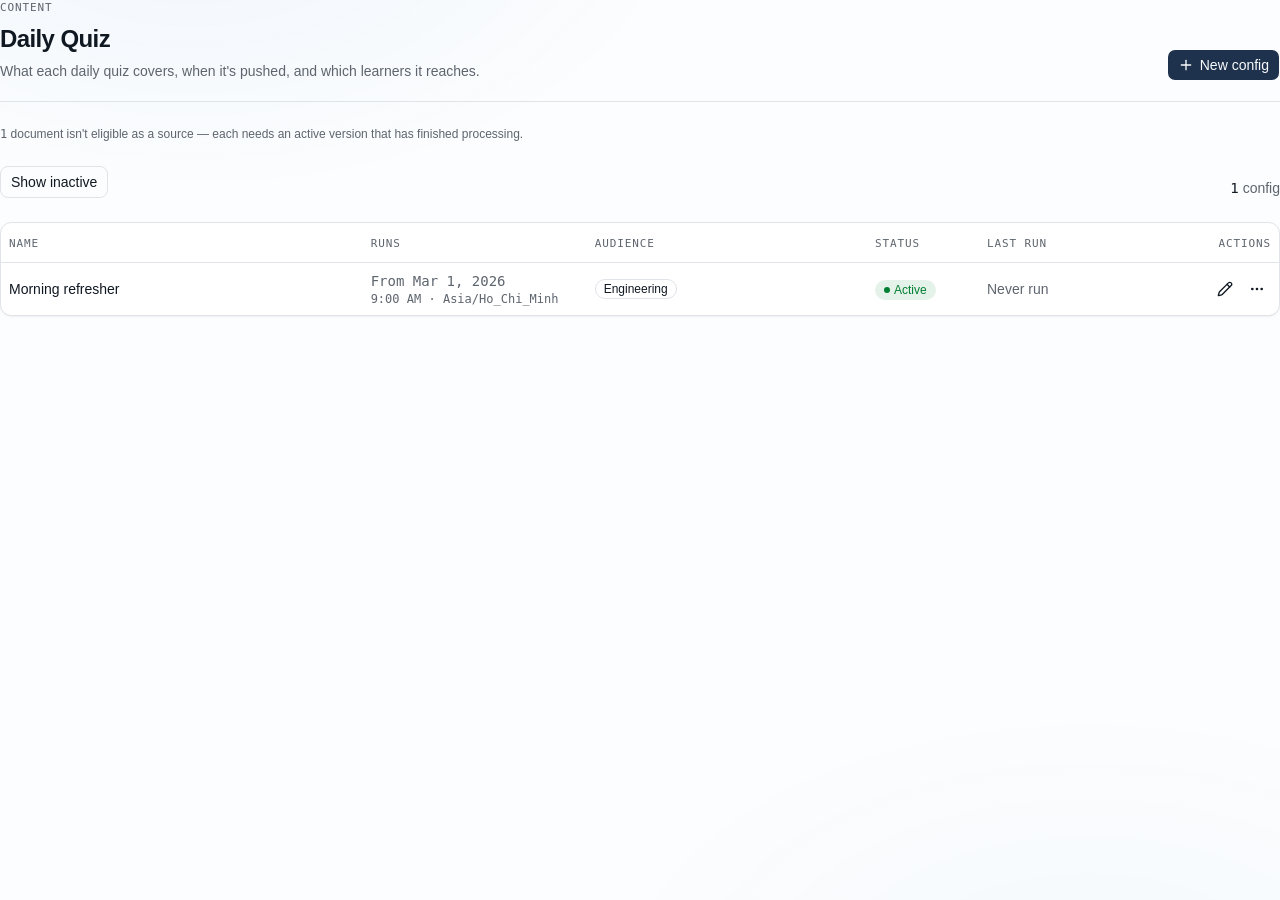
Test: DailyQuizConfigsPage › creates a config end to end with the expected payload
Check: the text "Morning refresher" is shown, box x1=9 y1=281 x2=120 y2=297
Click the button "New config".
click(1223, 64)  # box x1=1167 y1=48 x2=1279 y2=80
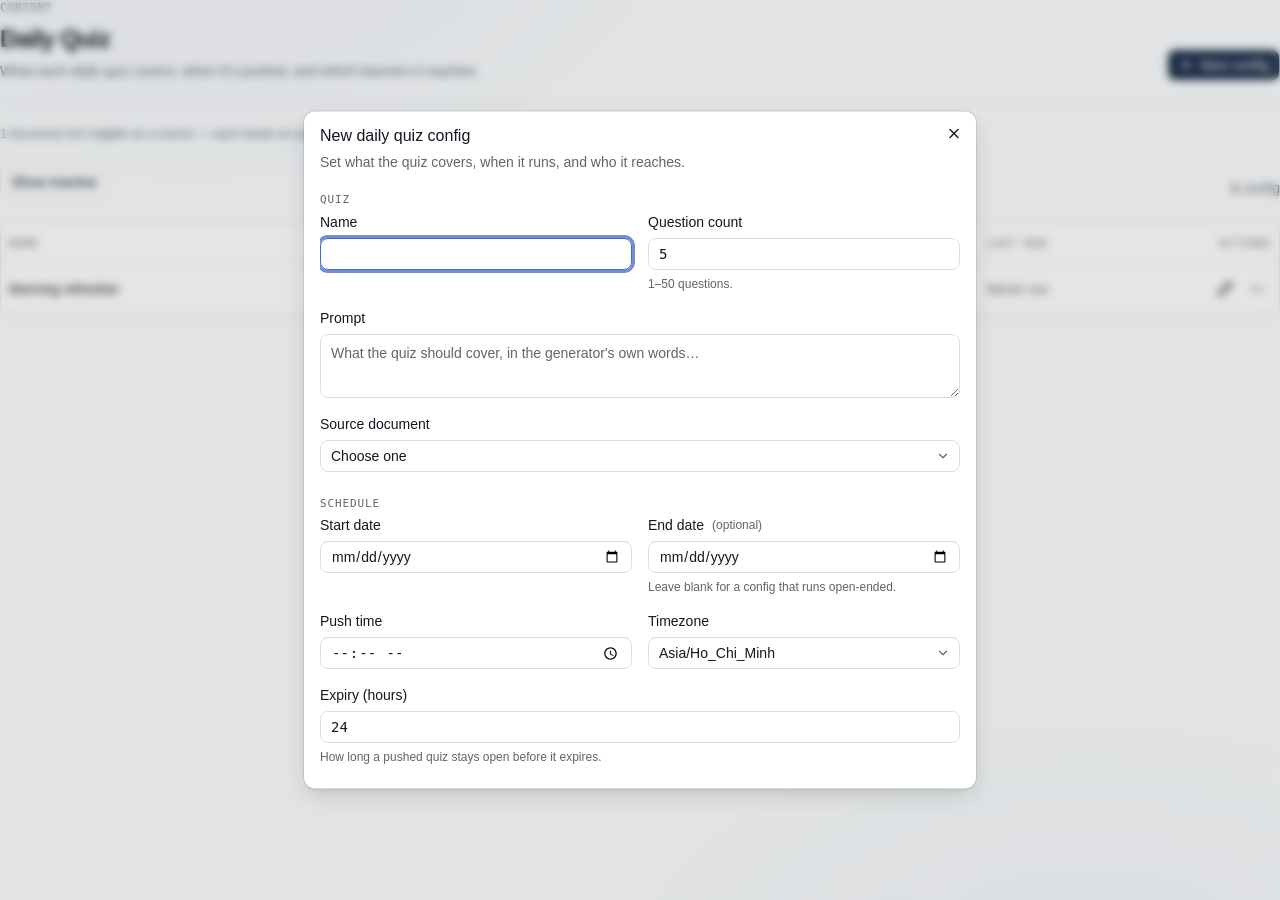
Type "Evening refresher" into the field labelled "Name".
click(476, 253); type("Evening refresher")  # box x1=320 y1=237 x2=632 y2=269
Type "Cover the new safety module." into the text box labelled "Prompt".
click(640, 365); type("Cover the new safety module.")  # box x1=320 y1=333 x2=960 y2=397
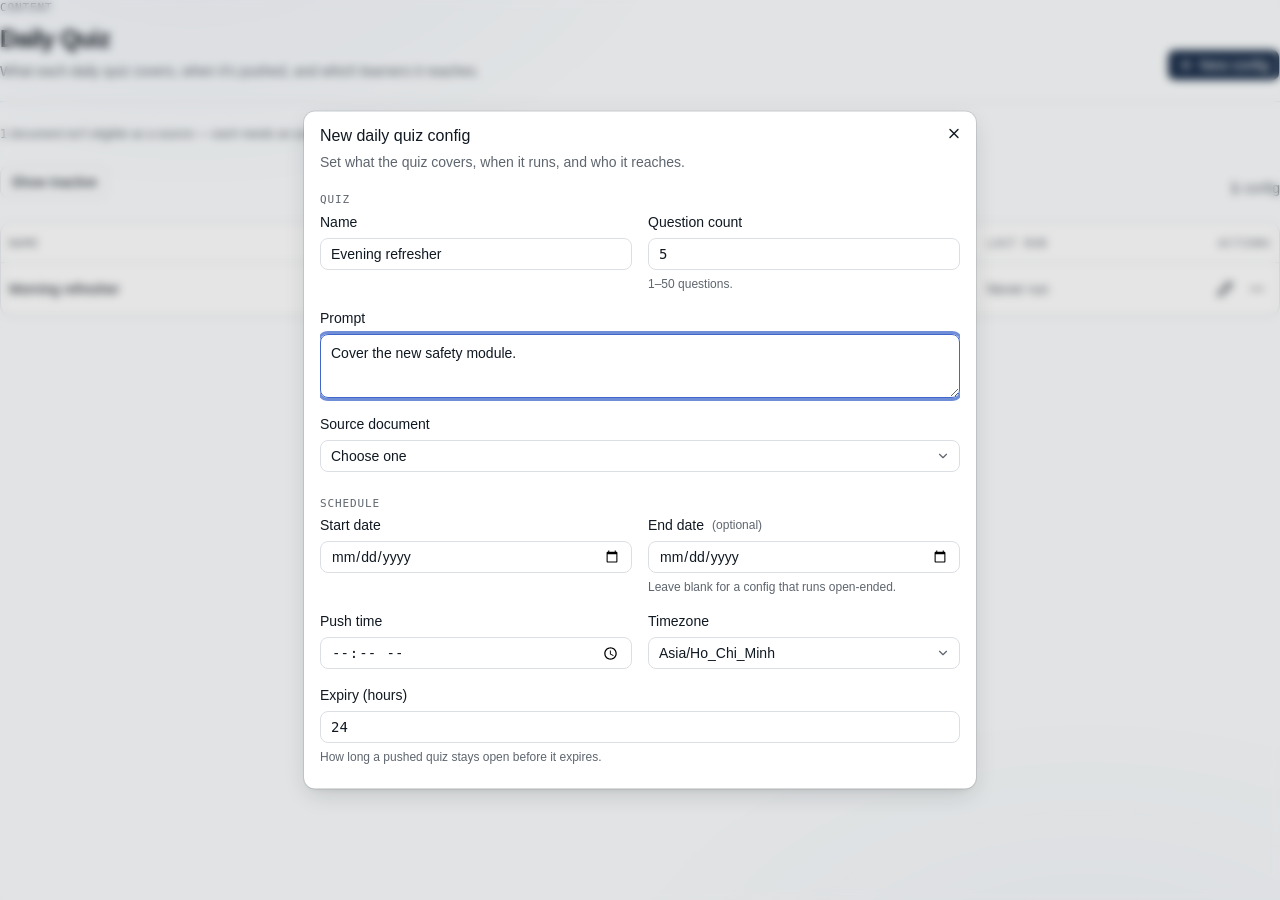
Select "Onboarding handbook" in the dropdown labelled "Source document" at (640, 455), box x1=320 y1=439 x2=960 y2=471
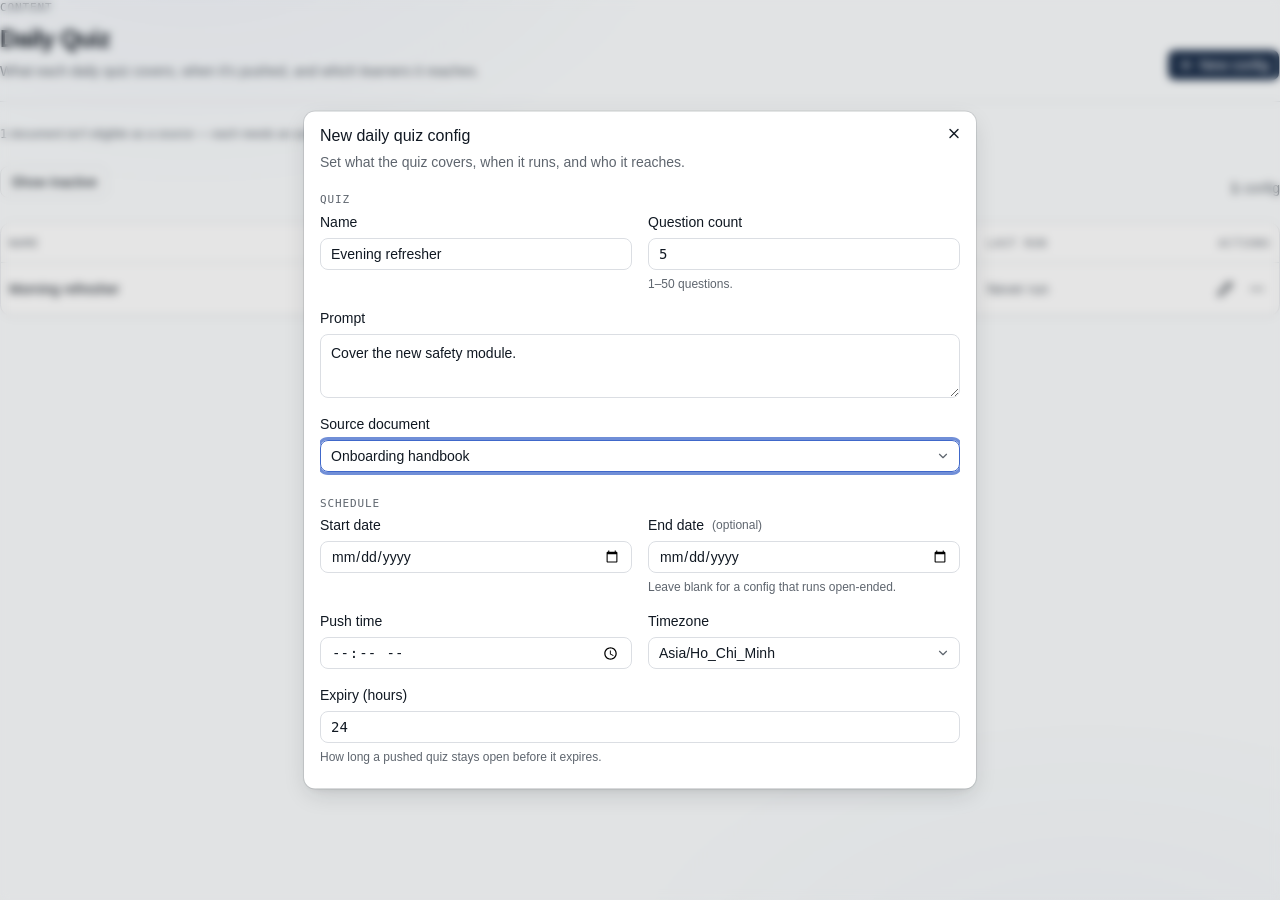
Type "2026-04-01" into the date field labelled "Start date".
click(476, 557); type("2026-04-01")  # box x1=320 y1=541 x2=632 y2=573
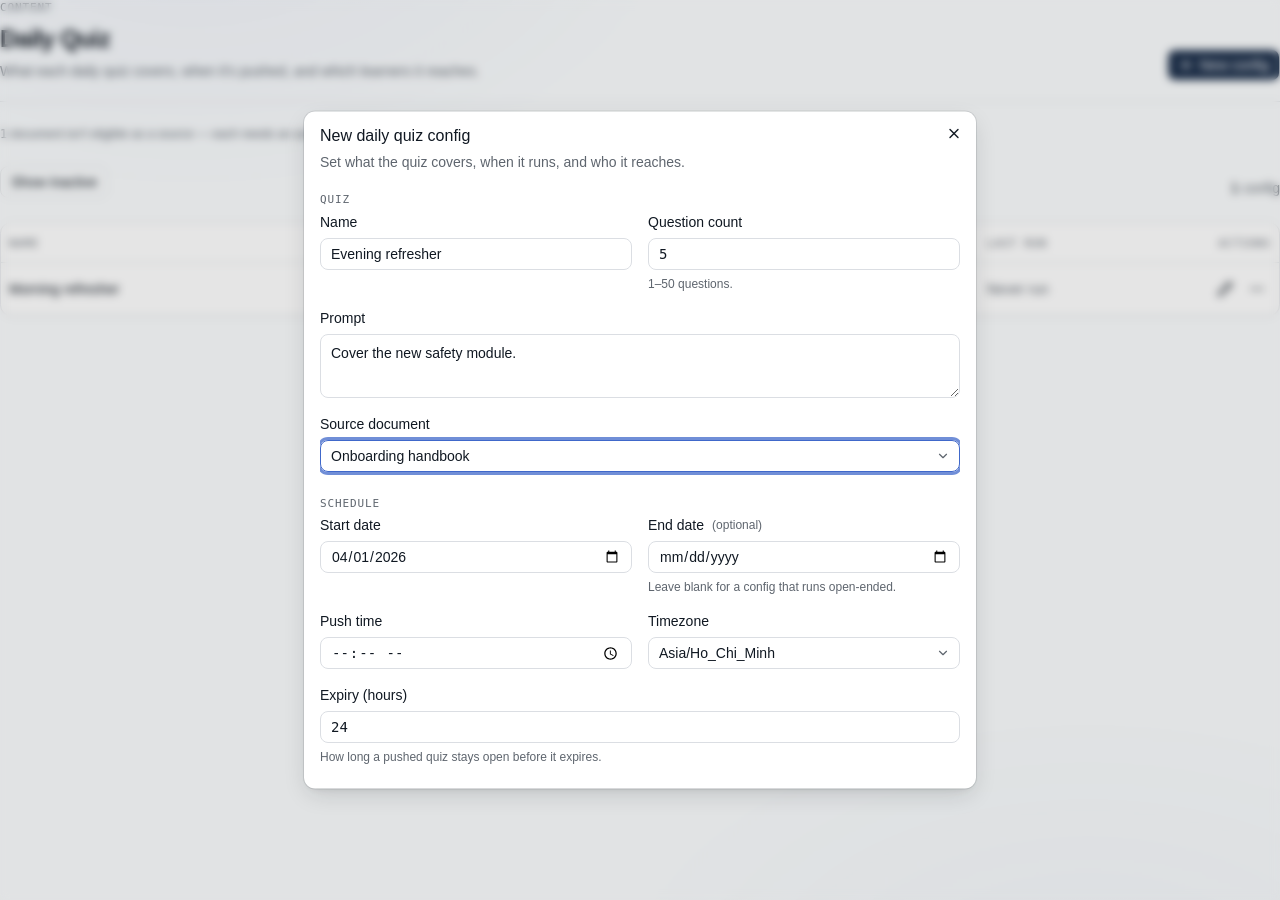
Type "08:15" into the time field labelled "Push time".
click(476, 653); type("08:15")  # box x1=320 y1=637 x2=632 y2=669
(page scrolled)
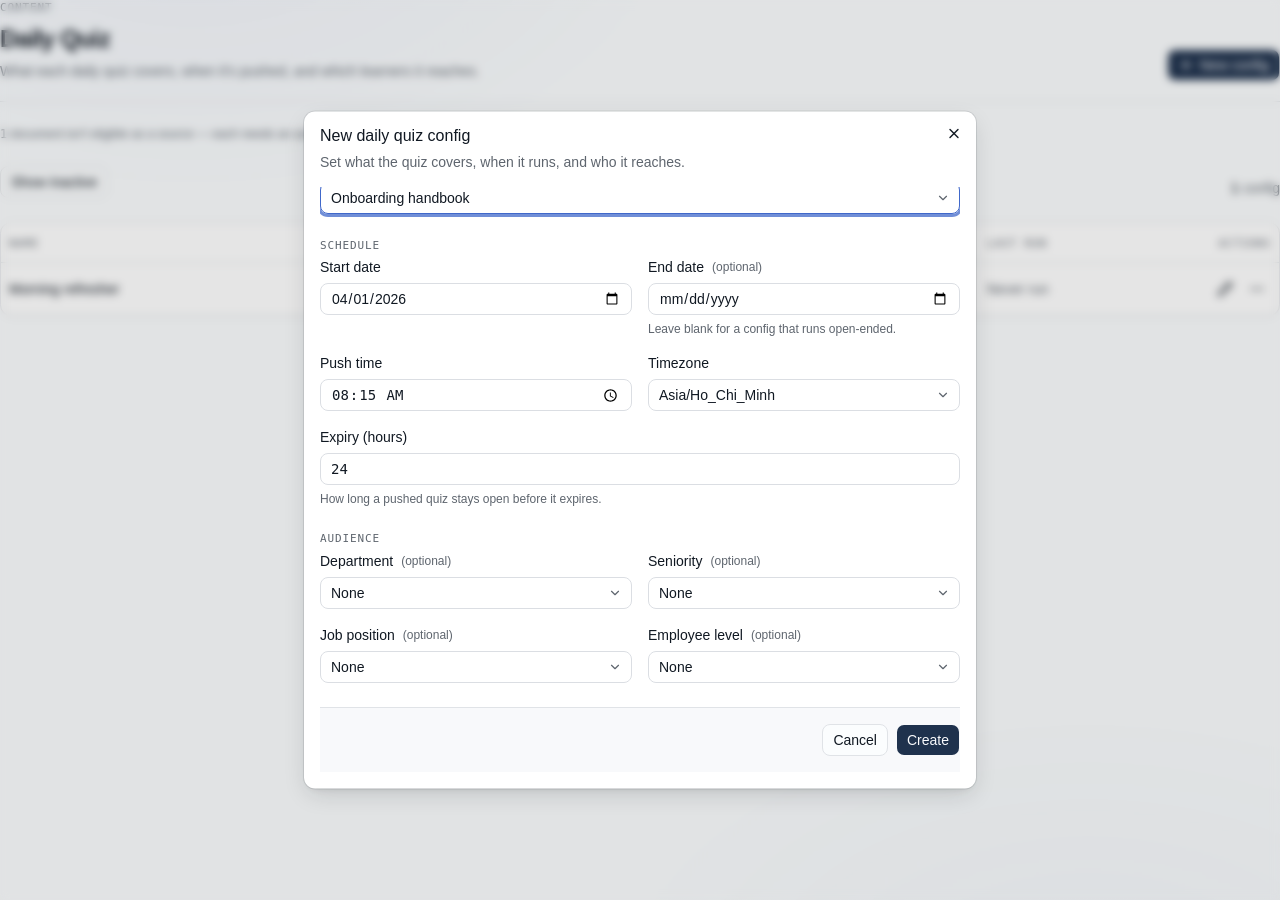
Click the button "Create".
click(928, 741)  # box x1=896 y1=725 x2=960 y2=757
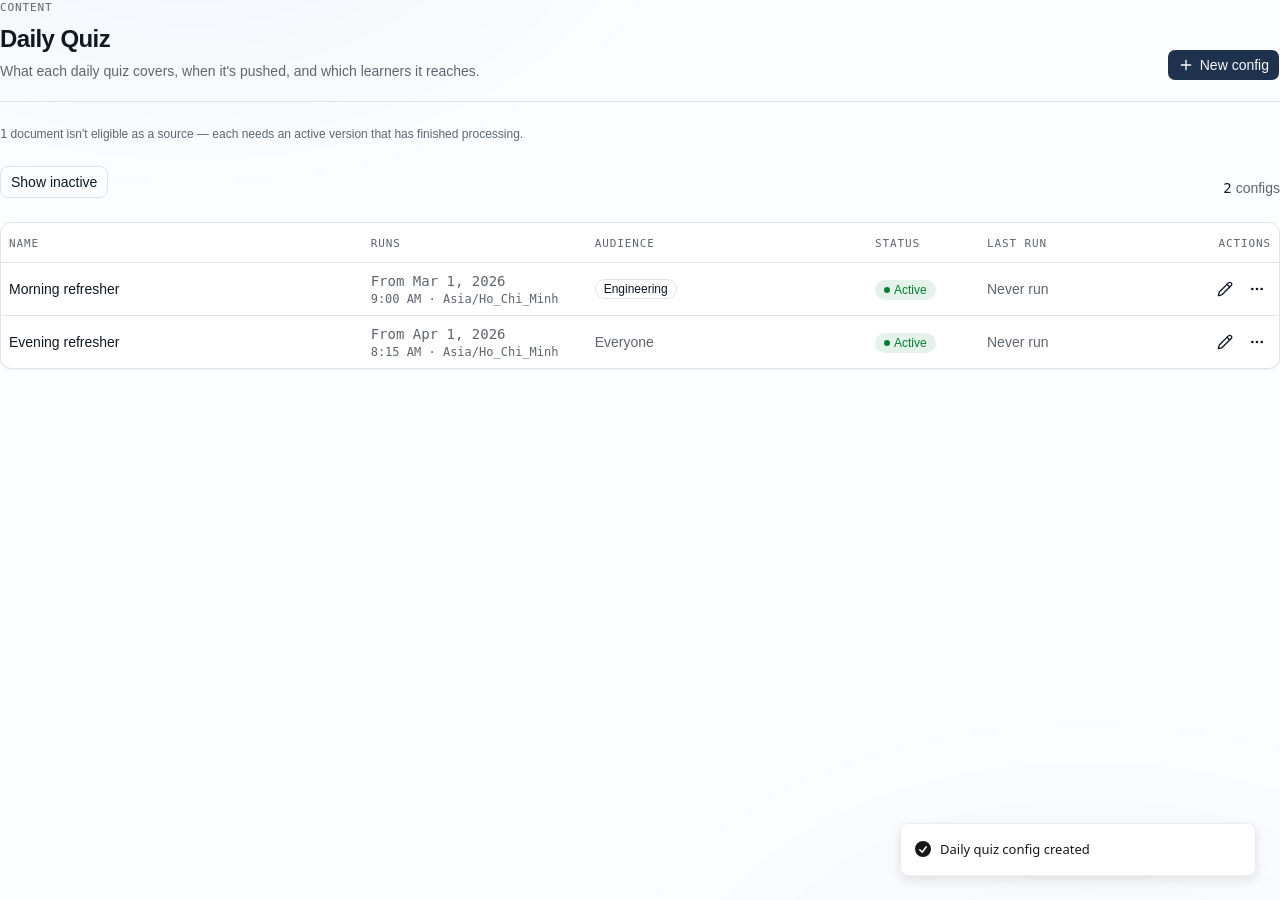
Check: the text "Evening refresher" is shown, box x1=9 y1=334 x2=120 y2=350
